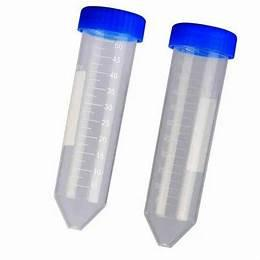Test tube: (49, 6, 246, 251)
